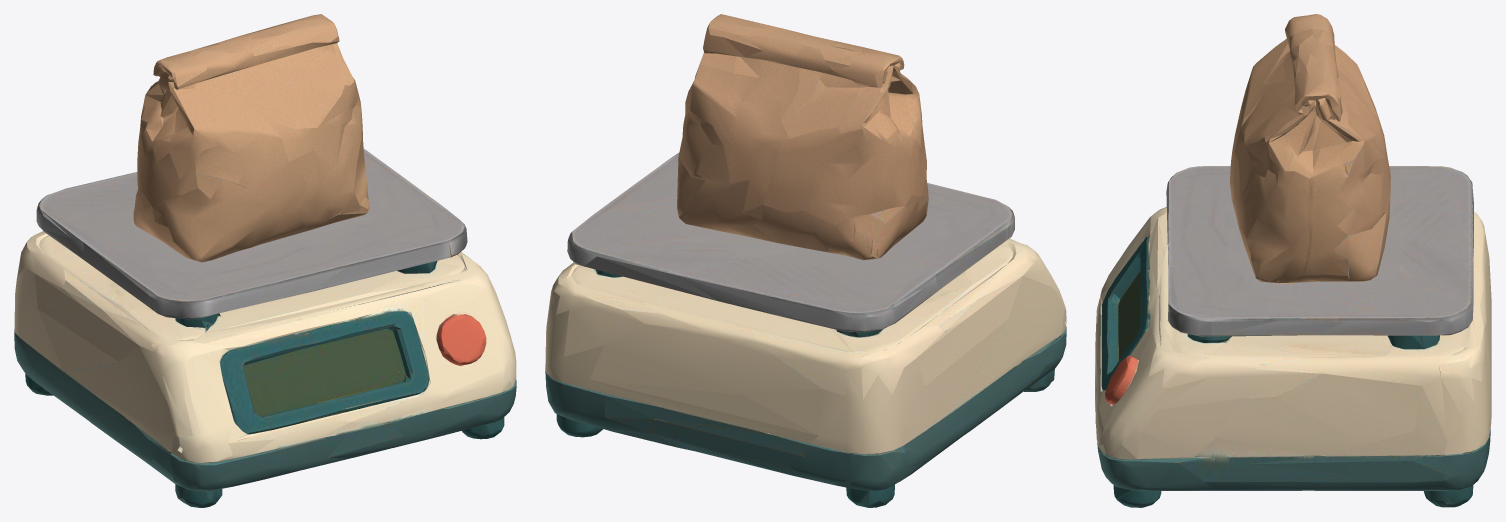
File: scale.glb
3 renders of one model, left to right at view 1: azimuth 30°, elevation 25°; view 2: azimuth 150°, elevation 25°; view 3: azimuth 270°, elevation 25°, orthographic. The views are drawn at different scales.
Visible parts, largest first — view 1: Mesh_0; view 2: Mesh_0; view 3: Mesh_0.
Boxes of the visible parts, x1,y1,x2,y2 form: Mesh_0: [14, 14, 516, 507]; Mesh_0: [545, 14, 1066, 507]; Mesh_0: [1095, 14, 1491, 507].
Size of the model in its own units: 0.1172 by 0.12 by 0.1146.
1 material, 1 textured.
